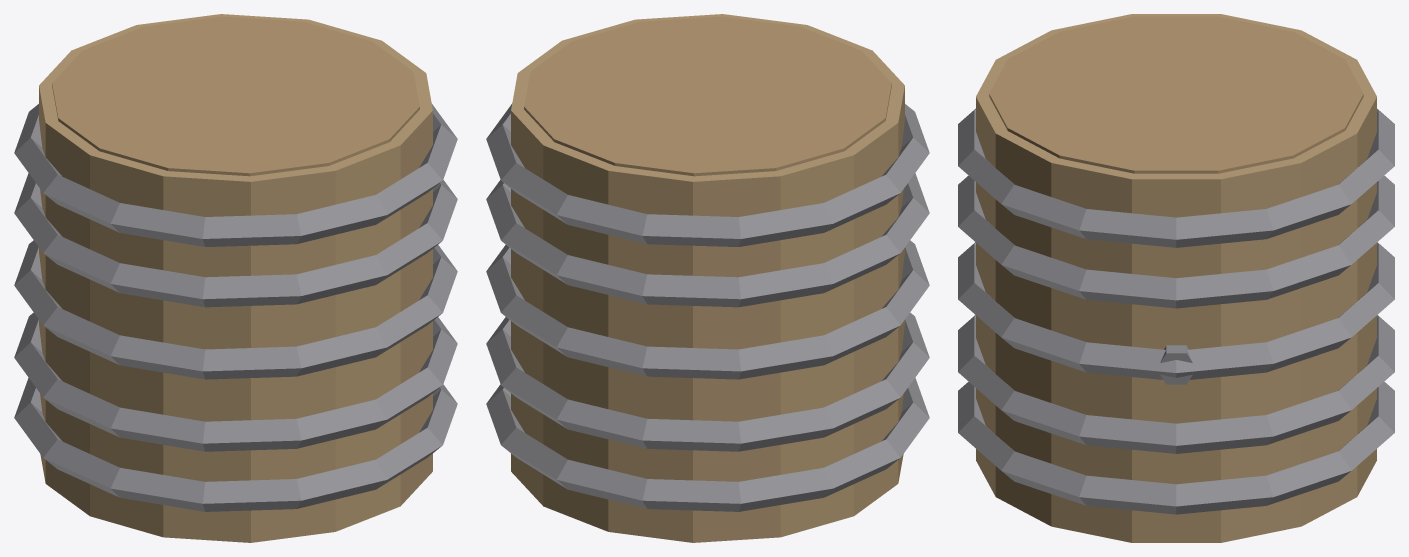
Rendered from barrel.dae.
3 renders of one model, left to right at view 1: azimuth 30°, elevation 25°; view 2: azimuth 150°, elevation 25°; view 3: azimuth 270°, elevation 25°, orthographic.
Visible parts, largest first — view 1: Cylinder, Cylinder.002, Torus.004, Torus.001, Torus.002, Torus, Torus.003; view 2: Cylinder, Cylinder.002, Torus.004, Torus.001, Torus.002, Torus, Torus.003; view 3: Cylinder, Cylinder.002, Torus.001, Torus.004, Torus, Torus.003, Torus.002, Cylinder.003.
Part boxes in pixels (x1,y1,x2,y2): Cylinder: (39,14,432,542); Cylinder.002: (52,16,419,176); Torus.004: (14,103,457,246); Torus.001: (14,312,457,451); Torus.002: (14,240,457,379); Torus: (14,377,457,511); Torus.003: (14,173,457,307); Cylinder: (511,14,904,542); Cylinder.002: (524,16,891,176); Torus.004: (486,103,929,246); Torus.001: (486,312,929,451); Torus.002: (486,240,929,379); Torus: (486,377,929,511); Torus.003: (486,173,929,307); Cylinder: (976,14,1376,542); Cylinder.002: (989,16,1363,173); Torus.001: (958,315,1394,453); Torus.004: (958,108,1394,247); Torus: (958,381,1394,514); Torus.003: (958,175,1394,308); Torus.002: (958,242,1394,379); Cylinder.003: (1160,345,1192,384).
Bounding box in the file's own units: 67 × 65.32 × 61.
